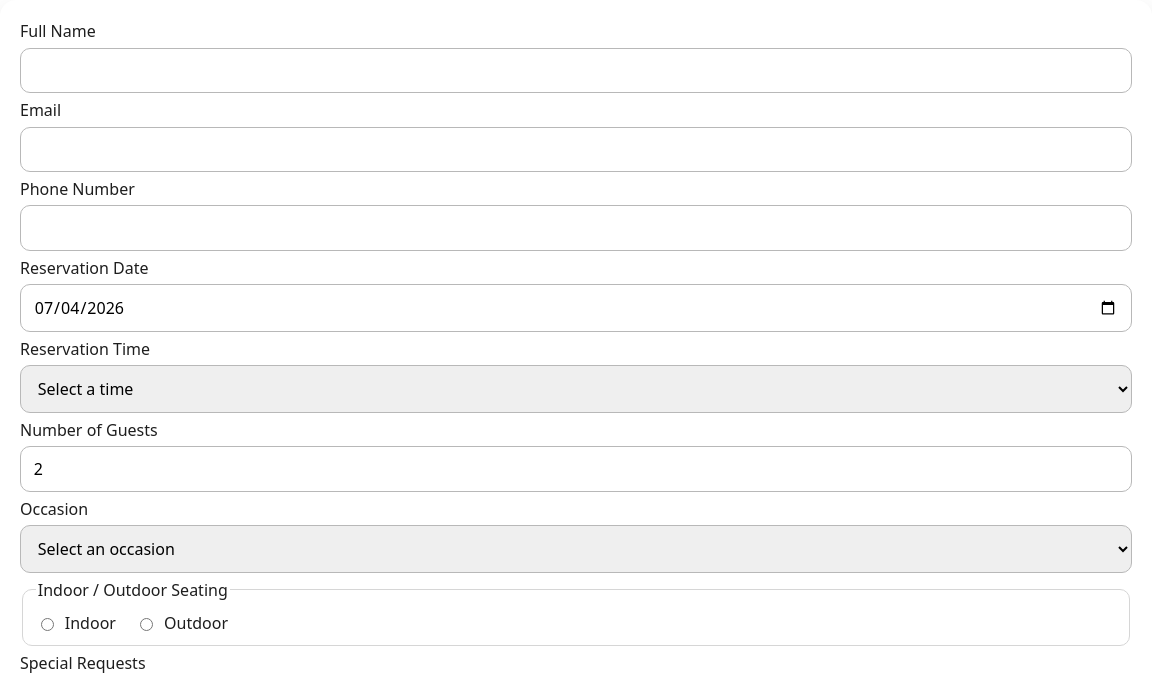
Test: BookingForm › shows guest validation error
The image size is (1152, 678).
Replace the text in the number field labelled "Number of Guests" with "11" at (576,469), box [20,446,1132,492]
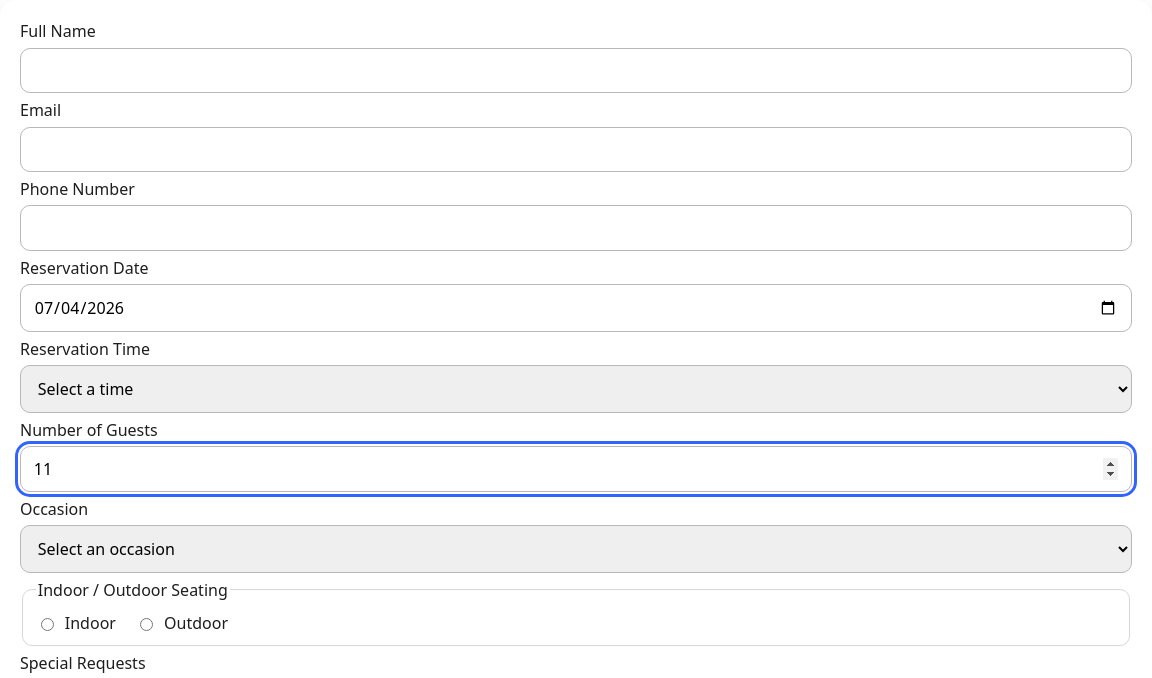
Press Tab
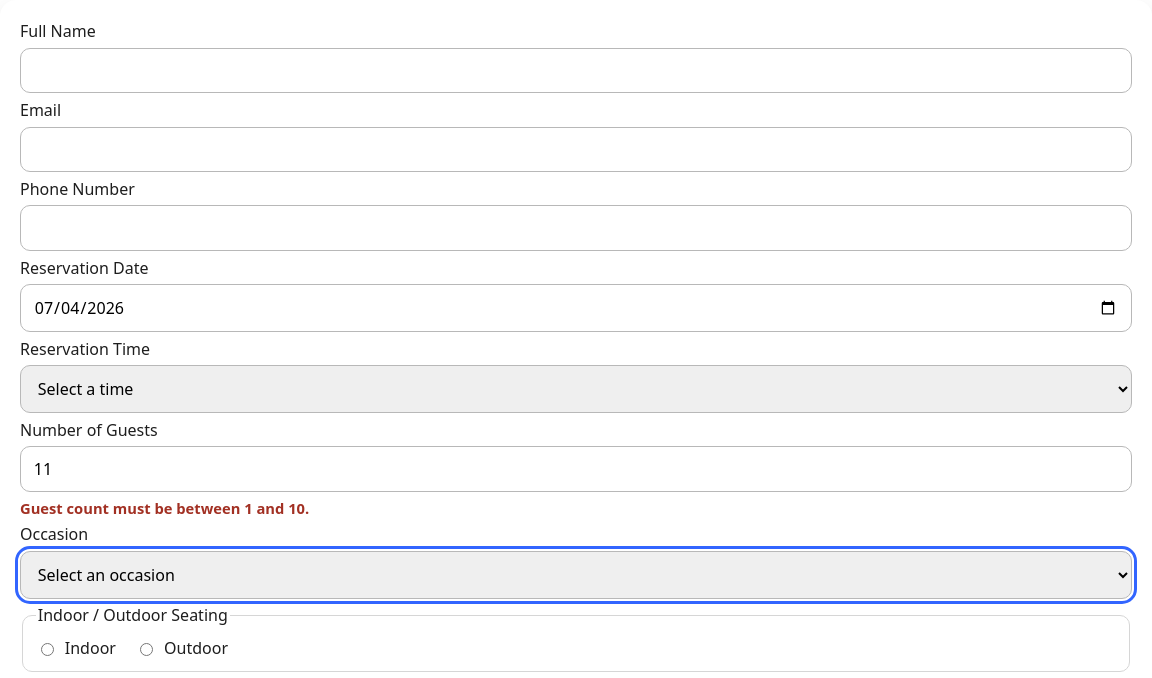
Expected: the text "Guest count must be between 1 and 10." is shown, [20,498,309,518]
